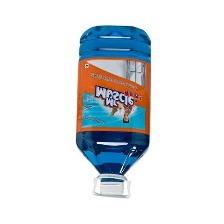cleaning_solution: (73, 21, 154, 202)
